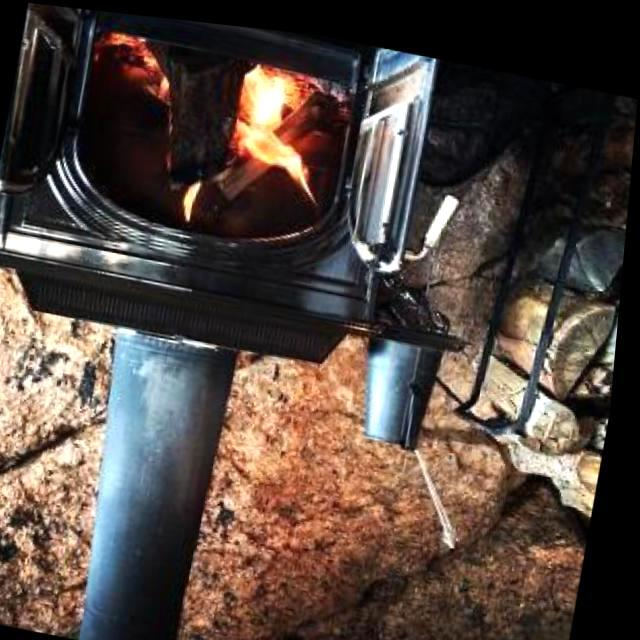fire: (214, 54, 342, 238), (92, 18, 188, 114)
